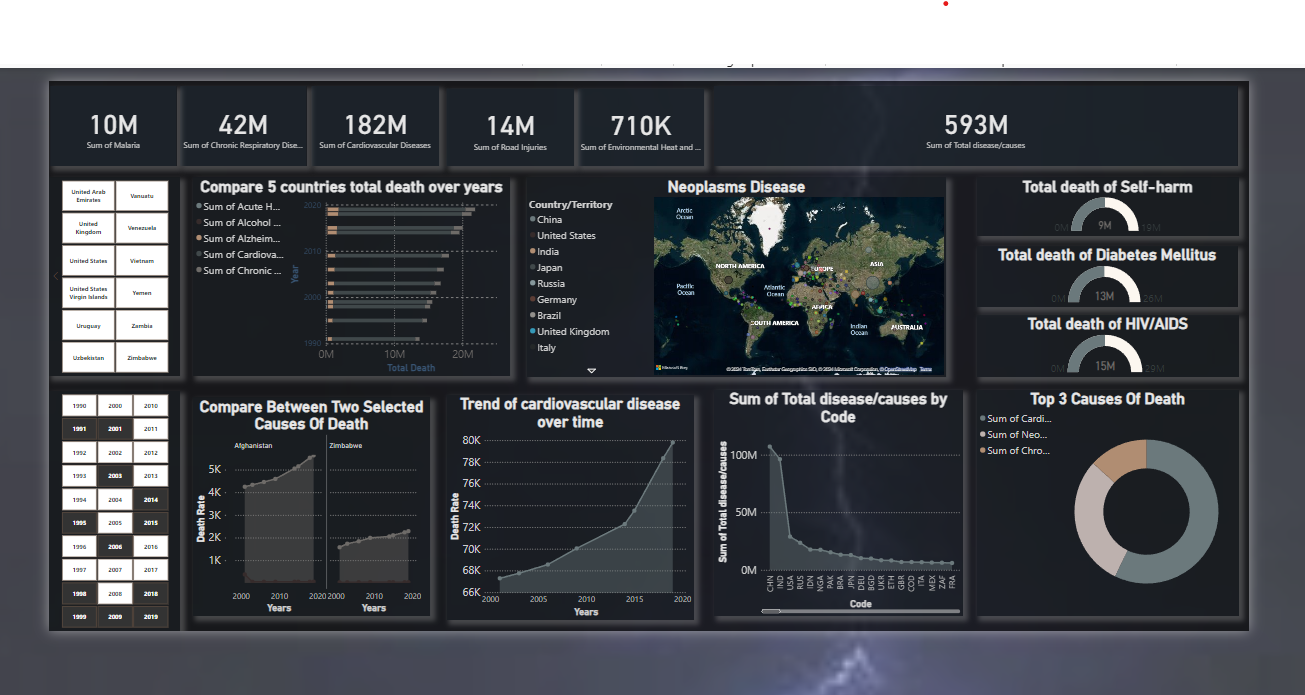

The page's visual inventory and layout, read from the dashboard file:
{"tool":"powerbi","page":{"name":"DASHBOARD","canvas":[2400,1100],"ordinal":0},"visuals":[{"type":"lineChart","title":"Compare Between Two Selected Causes Of Death ","fields":{"Category":["CLEANED_DATA.Year"],"Y":["Sum(CLEANED_DATA.Chronic Kidney Disease)","Sum(CLEANED_DATA.Environmental Heat and Cold Exposure)"],"Rows":["CLEANED_DATA.Country/Territory"]},"box":[287.5,632.5,475,437.5],"z":0},{"type":"slicer","title":"Total death of Environmental Heat and Cold Exposure","fields":{"Values":["CLEANED_DATA.Year"]},"box":[0,620,262.5,480],"z":1000},{"type":"slicer","fields":{"Values":["CLEANED_DATA.Country/Territory"]},"box":[0,192.5,262.5,397.5],"z":2000},{"type":"map","title":"Neoplasms Disease","fields":{"Category":["CLEANED_DATA.Country/Territory"],"Series":["CLEANED_DATA.Country/Territory"],"Size":["Sum(CLEANED_DATA.Neoplasms)"]},"box":[955,192.5,840,400],"z":3000},{"type":"lineChart","title":"Trend of cardiovascular disease over time ","fields":{"Category":["CLEANED_DATA.Year"],"Y":["Sum(CLEANED_DATA.Cardiovascular Diseases)"]},"box":[795,627.5,495,450],"z":4000},{"type":"barChart","title":"Compare 5 countries  total death over years ","fields":{"Category":["CLEANED_DATA.Year"],"Y":["Sum(CLEANED_DATA.Acute Hepatitis)","Sum(CLEANED_DATA.Alcohol Use Disorders)","Sum(CLEANED_DATA.Alzheimers Disease and Other Dementias)","Sum(CLEANED_DATA.Cardiovascular Diseases)","Sum(CLEANED_DATA.Chronic Kidney Disease)"]},"box":[287.5,192.5,635,397.5],"z":5000},{"type":"card","fields":{"Values":["Sum(CLEANED_DATA.Cardiovascular Diseases)"]},"box":[525,10,255,160],"z":6000},{"type":"card","fields":{"Values":["Sum(CLEANED_DATA.Environmental Heat and Cold Exposure)"]},"box":[1057.5,15,252.5,155],"z":7000},{"type":"card","fields":{"Values":["Sum(CLEANED_DATA.Chronic Respiratory Diseases)"]},"box":[262.5,10,252.5,160],"z":8000},{"type":"card","title":"Sum OF MALARIA","fields":{"Values":["Sum(CLEANED_DATA.Malaria)"]},"box":[2.5,10,252.5,160],"z":9000},{"type":"card","fields":{"Values":["Sum(CLEANED_DATA.Road Injuries)"]},"box":[795,15,255,155],"z":10000},{"type":"card","fields":{"Values":["Sum(CLEANED_DATA.Total disease/causes)"]},"box":[1330,10,1047.5,160],"z":11000},{"type":"donutChart","title":"Top 3 Causes Of Death ","fields":{"Y":["Sum(CLEANED_DATA.Cardiovascular Diseases)","Sum(CLEANED_DATA.Neoplasms)","Sum(CLEANED_DATA.Chronic Respiratory Diseases)"]},"box":[1855,617.5,525,452.5],"z":12000},{"type":"gauge","title":"Total death of Diabetes Mellitus","fields":{"Y":["Sum(CLEANED_DATA.Diabetes Mellitus)"]},"box":[1855,330,522.5,122.5],"z":13000},{"type":"gauge","title":"Total death of HIV/AIDS","fields":{"Y":["Sum(CLEANED_DATA.HIV/AIDS)"]},"box":[1855,467.5,525,125],"z":14000},{"type":"gauge","title":"Total death of Self-harm","fields":{"Y":["Sum(CLEANED_DATA.Self-harm)"]},"box":[1855,192.5,525,117.5],"z":15000},{"type":"stackedAreaChart","fields":{"Category":["CLEANED_DATA.Code"],"Y":["Sum(CLEANED_DATA.Total disease/causes)"]},"box":[1330,617.5,497.5,452.5],"z":16000}]}

Visuals, with their boxes on the page's 2400x1100 design canvas (x1, y1, x2, y2). These are canvas units, not pixel positions in the 1305x695 screenshot, which may show the page scaled, cropped or inside an application window:
"Compare Between Two Selected Causes Of Death " lineChart: left=288, top=632, right=762, bottom=1070
"Total death of Environmental Heat and Cold Exposure" slicer: left=0, top=620, right=262, bottom=1100
slicer - CLEANED_DATA.Country/Territory: left=0, top=192, right=262, bottom=590
"Neoplasms Disease" map: left=955, top=192, right=1795, bottom=592
"Trend of cardiovascular disease over time " lineChart: left=795, top=628, right=1290, bottom=1078
"Compare 5 countries  total death over years " barChart: left=288, top=192, right=922, bottom=590
card - Sum(CLEANED_DATA.Cardiovascular Diseases): left=525, top=10, right=780, bottom=170
card - Sum(CLEANED_DATA.Environmental Heat and Cold Exposure): left=1058, top=15, right=1310, bottom=170
card - Sum(CLEANED_DATA.Chronic Respiratory Diseases): left=262, top=10, right=515, bottom=170
"Sum OF MALARIA" card: left=2, top=10, right=255, bottom=170
card - Sum(CLEANED_DATA.Road Injuries): left=795, top=15, right=1050, bottom=170
card - Sum(CLEANED_DATA.Total disease/causes): left=1330, top=10, right=2378, bottom=170
"Top 3 Causes Of Death " donutChart: left=1855, top=618, right=2380, bottom=1070
"Total death of Diabetes Mellitus" gauge: left=1855, top=330, right=2378, bottom=452
"Total death of HIV/AIDS" gauge: left=1855, top=468, right=2380, bottom=592
"Total death of Self-harm" gauge: left=1855, top=192, right=2380, bottom=310
stackedAreaChart - CLEANED_DATA.Code x Sum(CLEANED_DATA.Total disease/causes): left=1330, top=618, right=1828, bottom=1070
